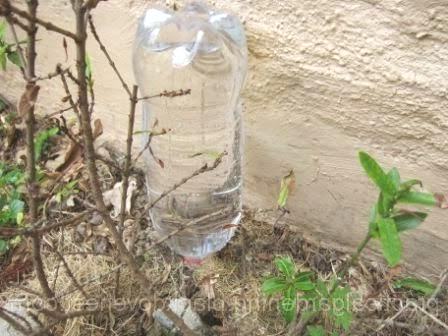bottle: (135, 1, 253, 272)
